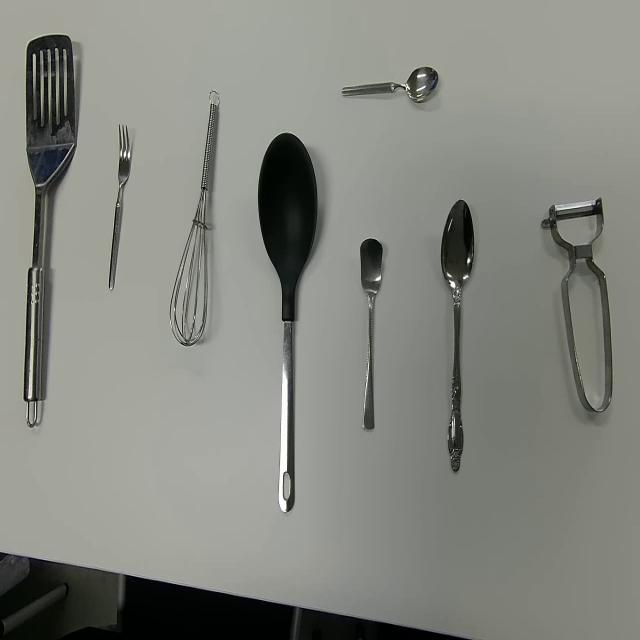Desert-Spoon: (440, 198, 476, 473)
Dinner-Fork: (107, 122, 132, 292)
Peeler: (540, 195, 614, 415)
Serving-Spoon: (257, 130, 319, 512), (22, 32, 77, 430)
Tea-Spoon: (359, 236, 383, 432), (340, 64, 439, 105)
Whisk: (170, 88, 220, 347)
